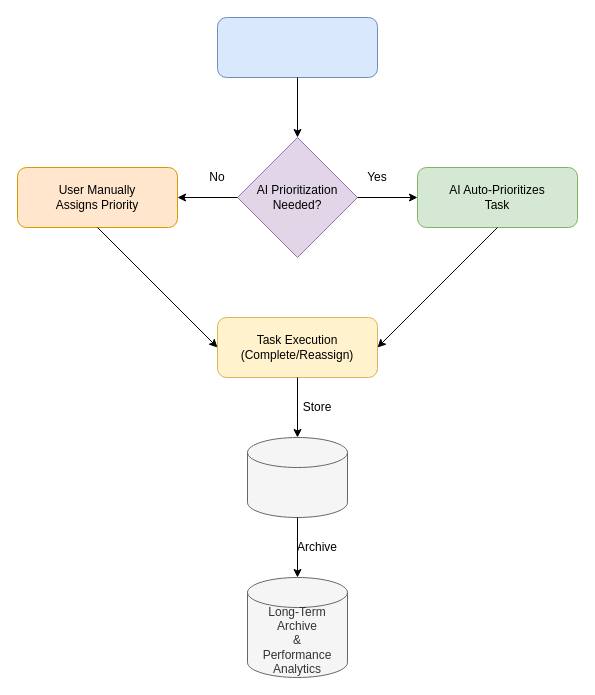
Some shapes in this 595 by 695 pixel diagram are drawn without their labels. Each missing label, with the box of its shape:
Short-Term Task Storage: (246, 436, 348, 518)
User Adds Task: (216, 16, 378, 78)
